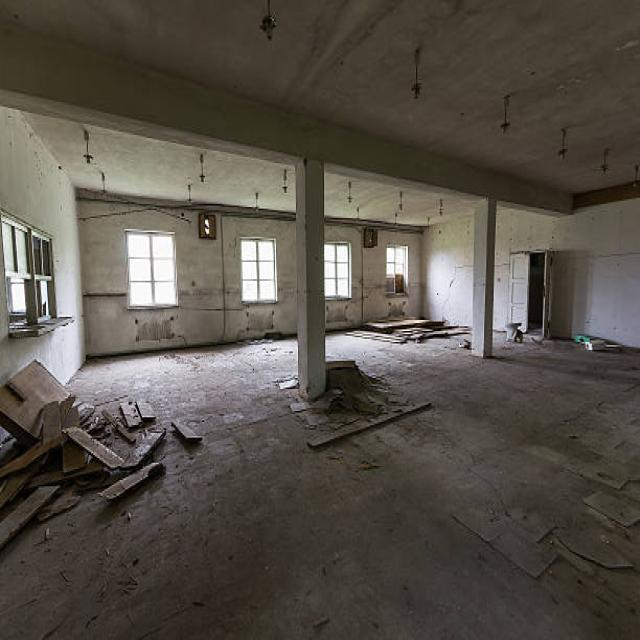floor: (0, 327, 640, 640)
wall: (0, 23, 573, 401), (76, 187, 297, 357), (0, 107, 86, 388), (494, 202, 640, 349), (324, 217, 423, 332), (421, 215, 474, 327), (124, 229, 178, 309), (296, 157, 308, 401), (471, 197, 488, 359), (239, 237, 278, 304), (573, 180, 640, 211), (0, 210, 8, 342)
